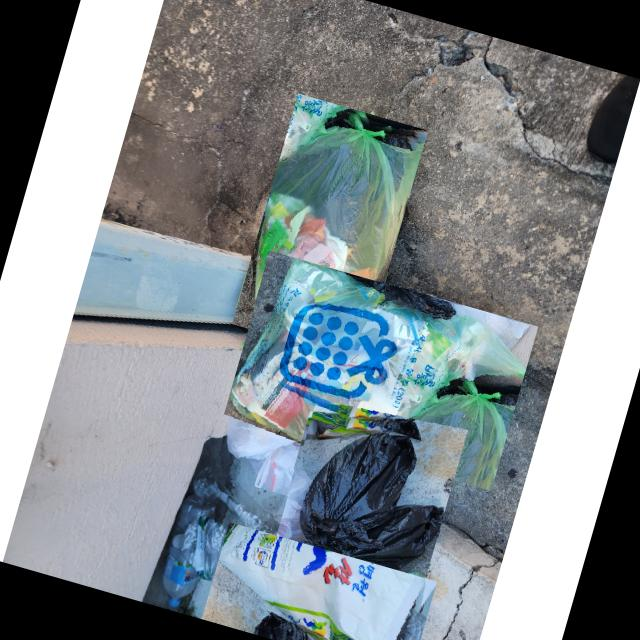general_trashbag: (231, 257, 523, 445), (254, 112, 417, 344)
other_trashbag: (217, 524, 428, 640), (272, 430, 443, 571), (226, 372, 327, 500)
